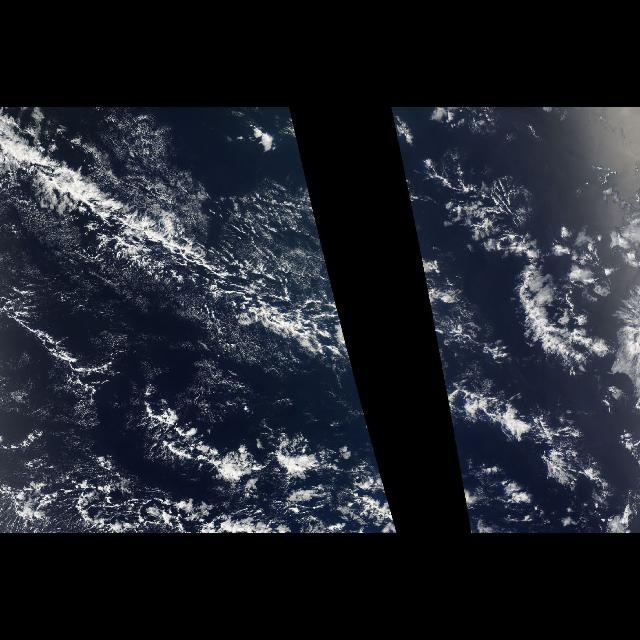Fish: (4, 110, 364, 498), (392, 112, 624, 412)
Gravel: (0, 452, 200, 532), (8, 302, 108, 428)
